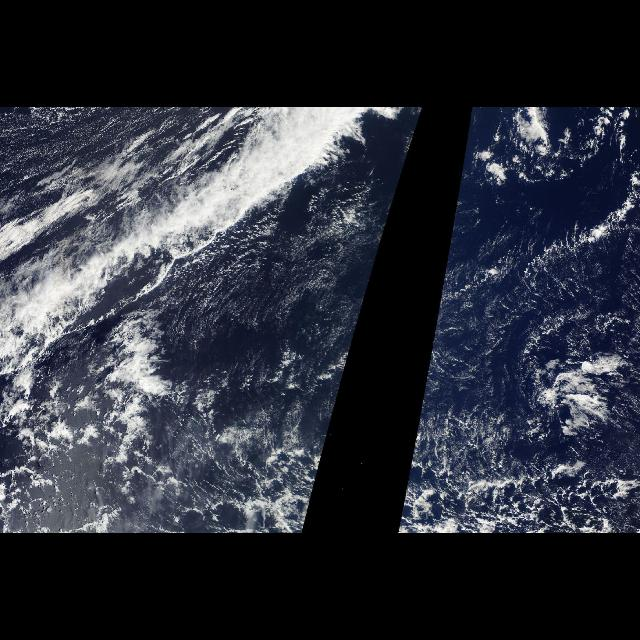Fish: (5, 132, 323, 354)
Gravel: (2, 371, 328, 534), (398, 422, 640, 534)
Sugar: (160, 205, 392, 485), (420, 206, 640, 488)
